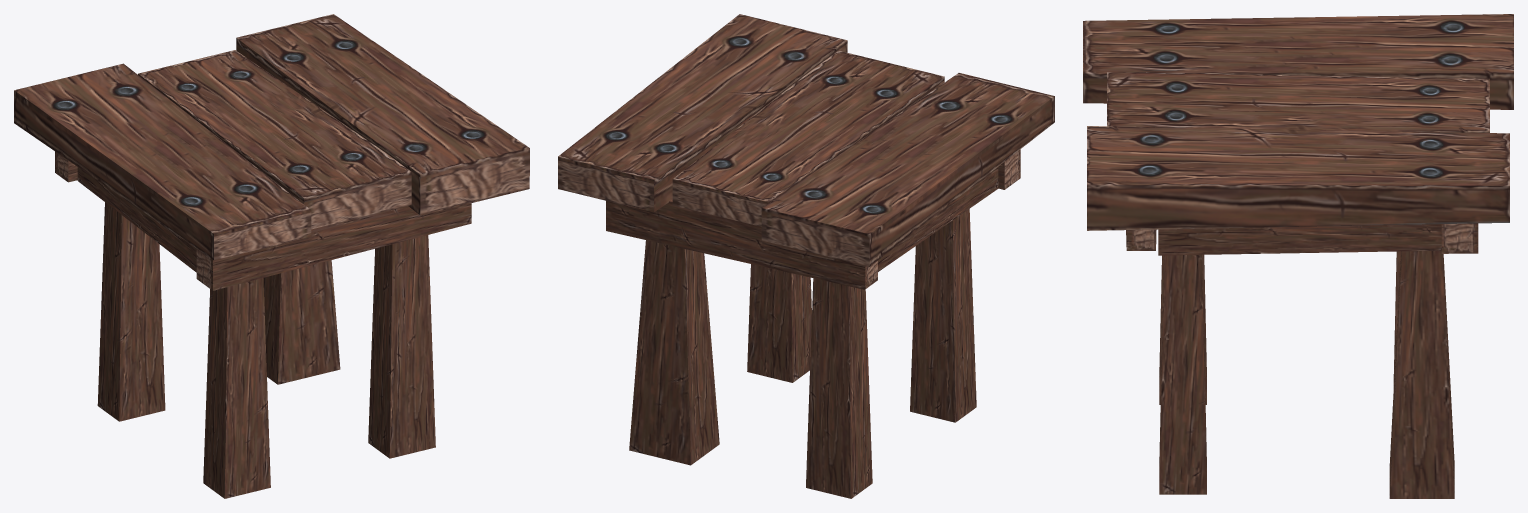
Rendered from Furniture_SquareStool_Tavern_DR.fbx.
3 views of the same model, side by side, from view 1: azimuth 30°, elevation 25°; view 2: azimuth 150°, elevation 25°; view 3: azimuth 270°, elevation 25° (orthographic). The views are drawn at different scales.
Visible parts, largest first — view 1: SmartCombine_0; view 2: SmartCombine_0; view 3: SmartCombine_0.
Part boxes in pixels (x1,y1,x2,y2): SmartCombine_0: (14,14,529,498); SmartCombine_0: (558,14,1054,498); SmartCombine_0: (1083,14,1513,498).
Bounding box in the file's own units: 56.61 × 51.51 × 58.72.
